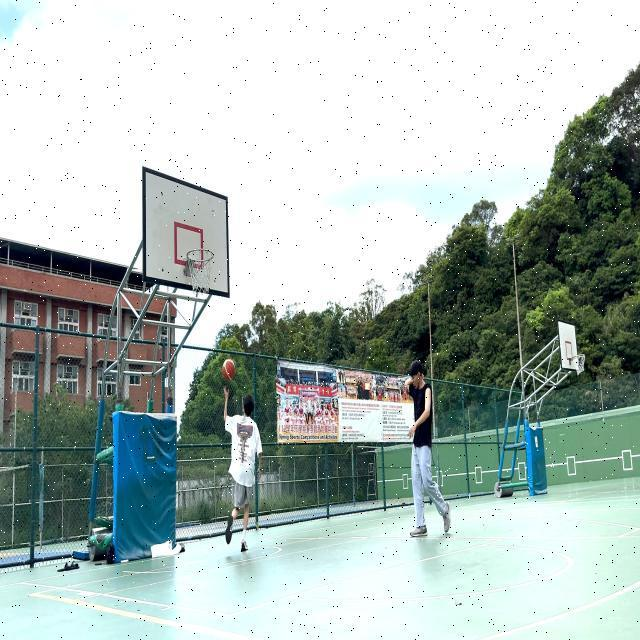ball: (222, 359, 235, 378)
